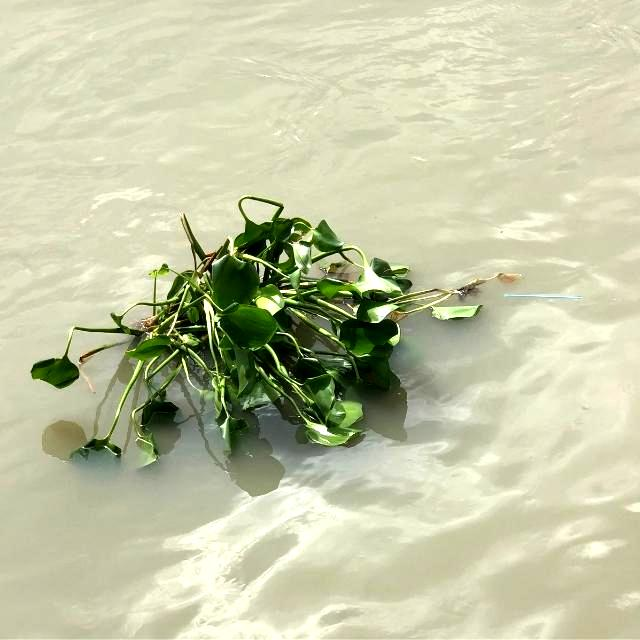water-hyacinth: (30, 183, 504, 476)
